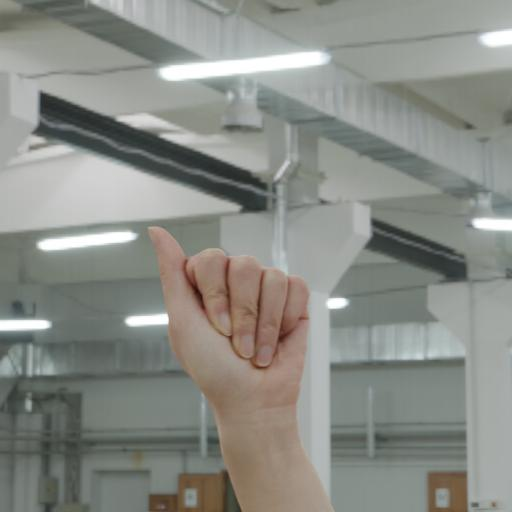A: (134, 216, 322, 512)
